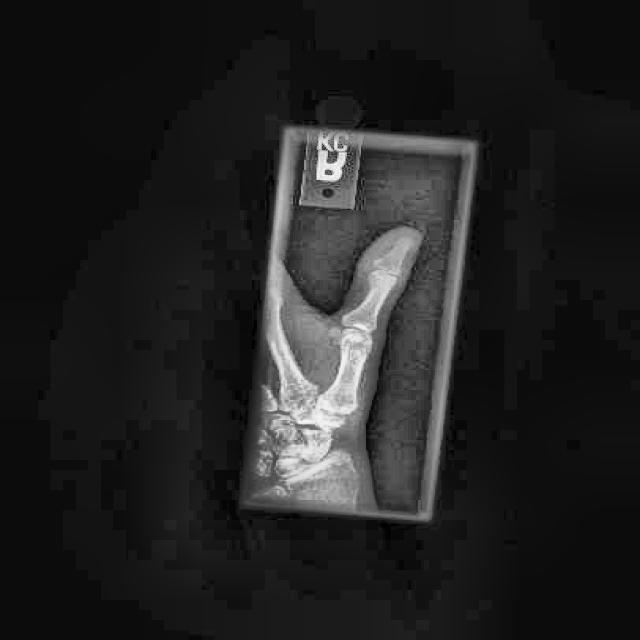fingers positive: (367, 252, 404, 280)
